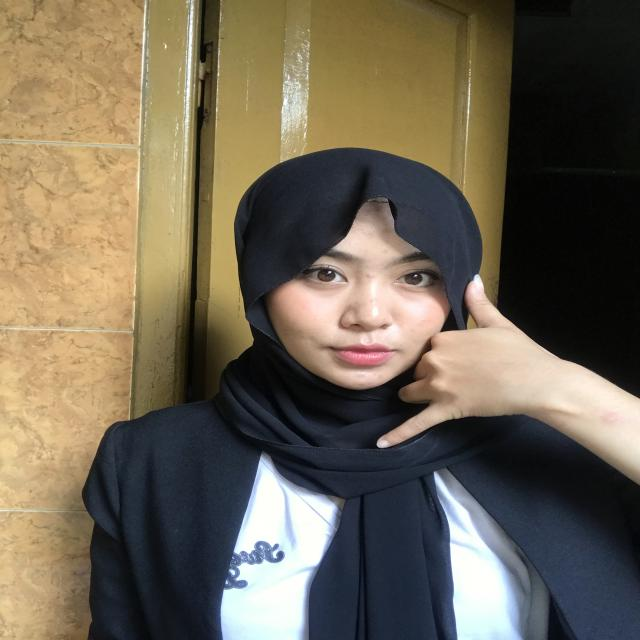telpon: (358, 274, 562, 456)
